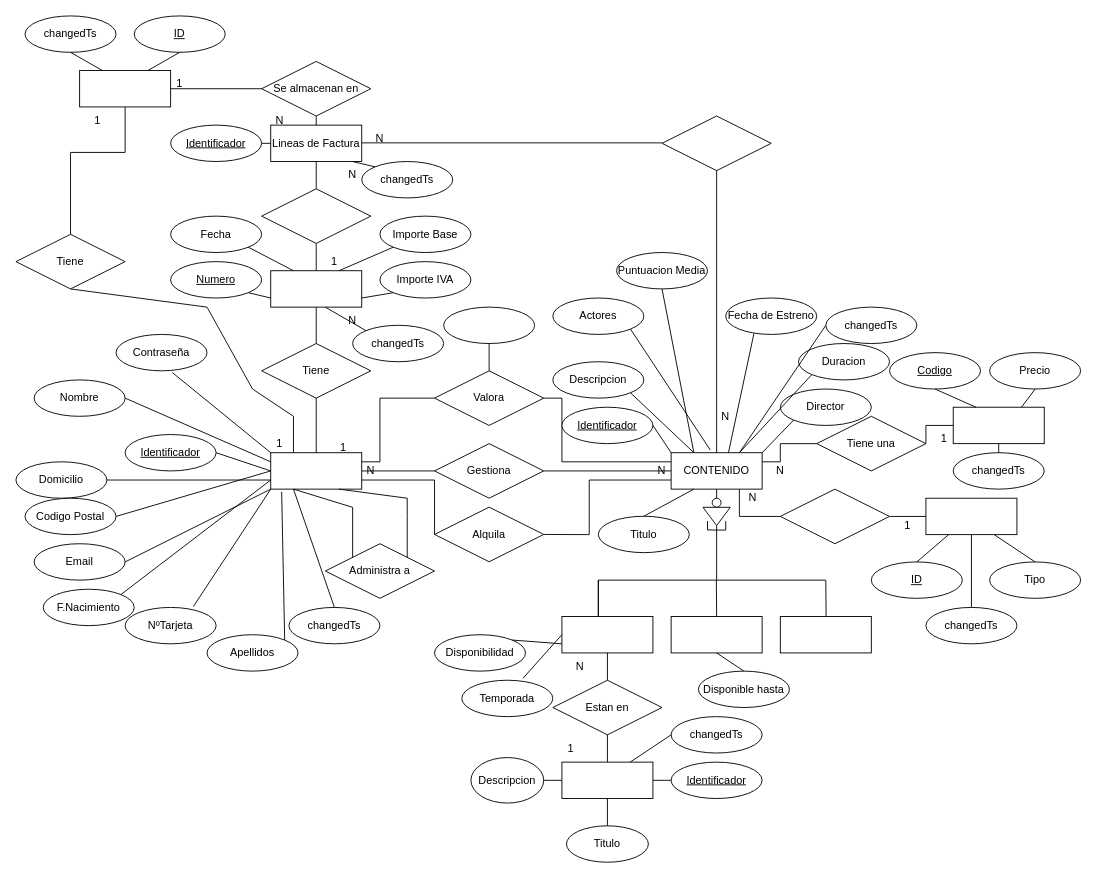
Some shapes in this 1097 by 878 pixel diagram are drawn without their labels. The centre of each missing label's shape, as x and y in pixels:
Articulos a Facturar: the point at 716,143
CAPITULO: the point at 607,634
Carro de Compra: the point at 125,88
Contiene: the point at 316,215
CORTO: the point at 825,634
Factura: the point at 316,288
Genero: the point at 971,516
PELICULA: the point at 716,634
Pertenece a: the point at 834,516
Puntos: the point at 489,325
SERIE: the point at 607,780
Tarifa: the point at 998,425
USUARIO: the point at 316,470
